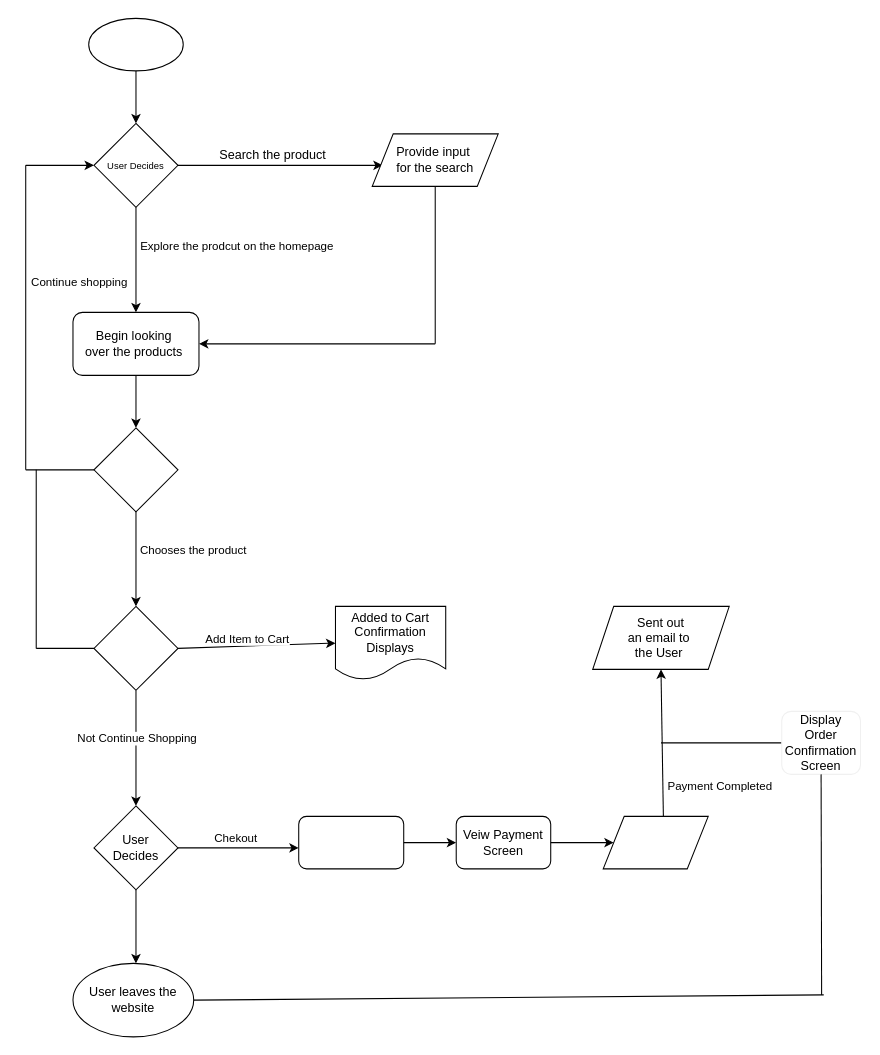
The diagram is 880 pixels wide and 1055 high, and some of its shapes have lost their labels. Each missing label, with the centre of its shape:
Prodcut webpage: the point at 135,647
Product Decision: the point at 135,469
User enter's the website: the point at 135,44
User enters Payment information: the point at 655,842
View Cart Screen: the point at 351,842
